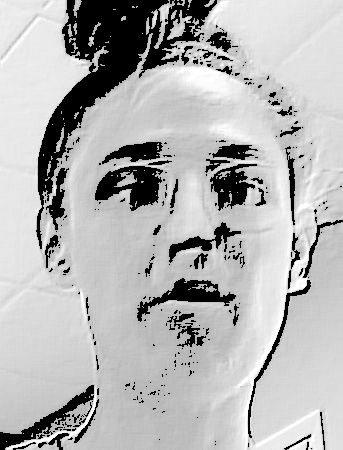nose_M_C: (160, 191, 220, 275)
